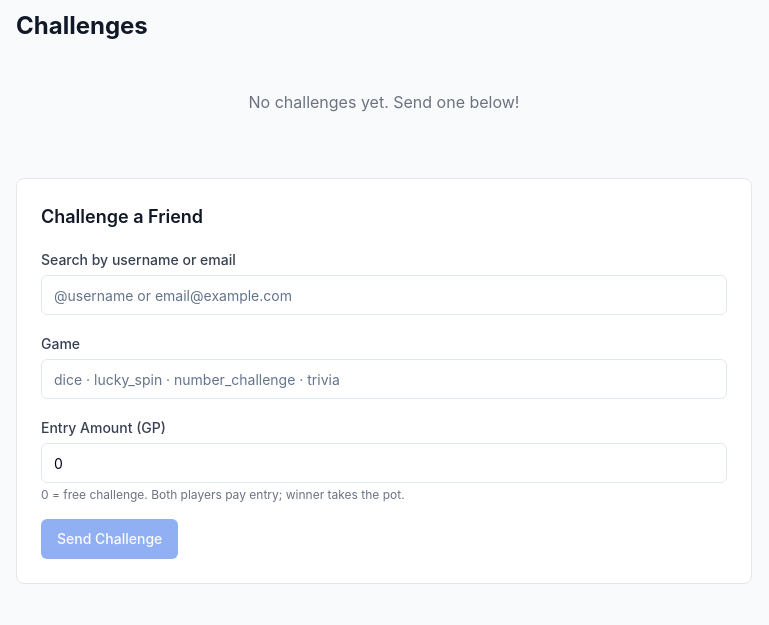
Test: ChallengesPage — search › shows "No matching user found." for an empty result set
expect the heading "Challenge a Friend" is shown: met, box [41,206,203,227]
In the field labelled "Search by username or email": (384, 295) [41,275,727,315], type "nobodyhere"
Wait 300 ms
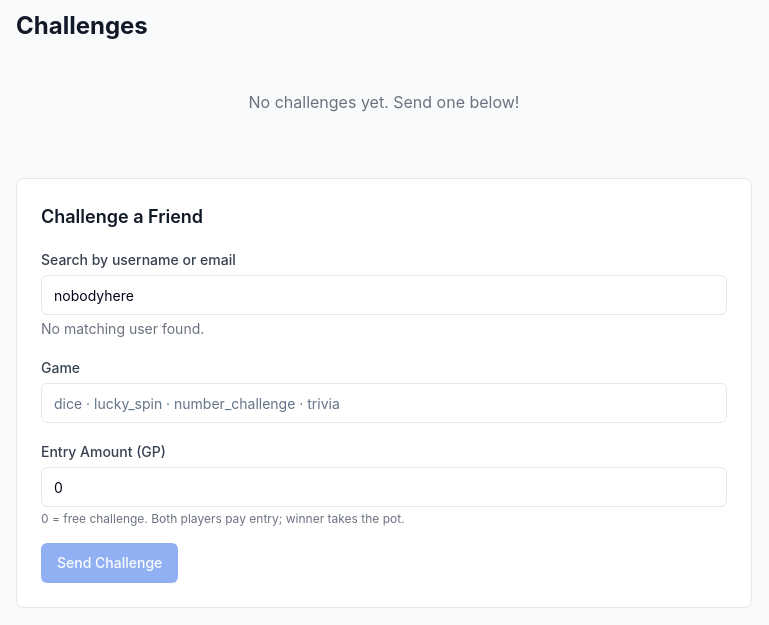
expect the text "No matching user found." is shown: met, box [41,320,204,337]
